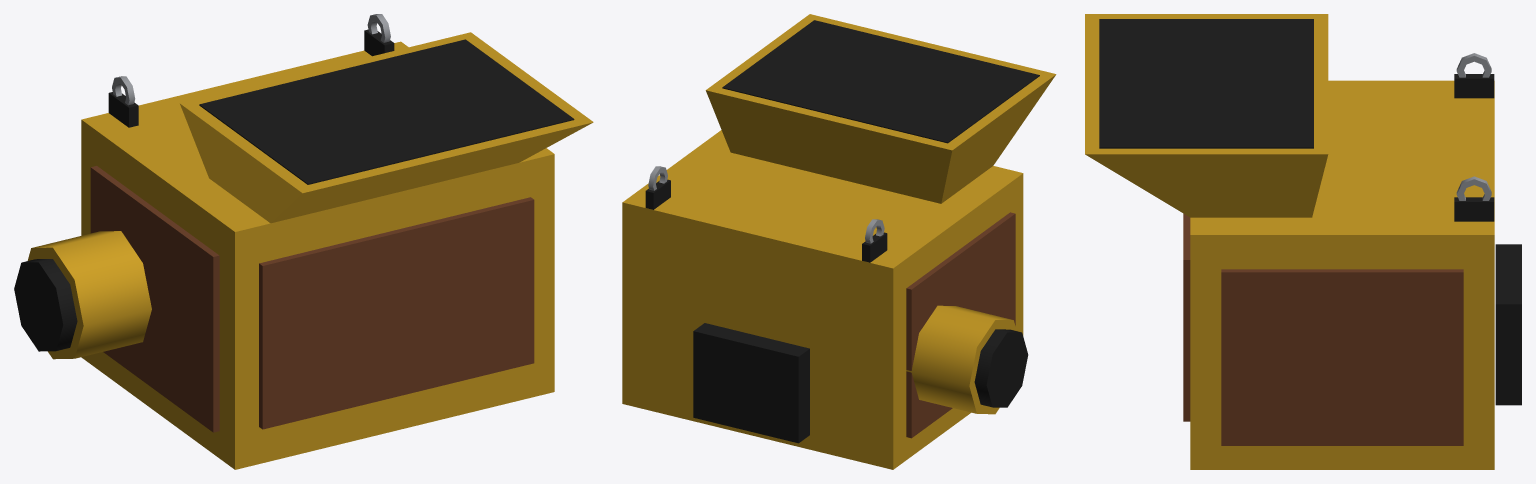
The model's file is mk1_crusher.obj.
3 renders of one model, left to right at view 1: azimuth 30°, elevation 25°; view 2: azimuth 150°, elevation 25°; view 3: azimuth 270°, elevation 25°, orthographic. The views are drawn at different scales.
Visible parts, largest first — view 1: mk1_crusher; view 2: mk1_crusher; view 3: mk1_crusher.
Boxes of the visible parts, <box> form: mk1_crusher: <box>14,14,593,469</box>; mk1_crusher: <box>622,14,1056,469</box>; mk1_crusher: <box>1085,14,1521,469</box>.
Size of the model in its own units: 2.33 by 1.69 by 2.16.
